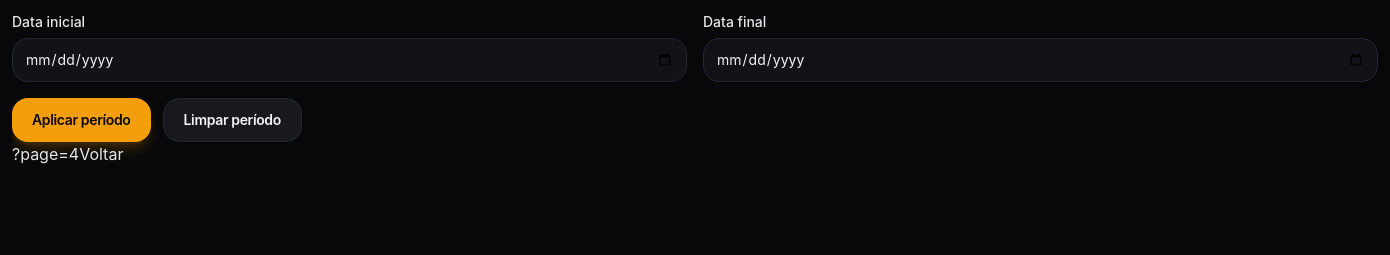
Test: OrdersPeriodFilter › shows an alert and does not navigate for a reversed range
The width and height of the screenshot is (1390, 255).
Step 1. Type "2026-07-16" into the date field labelled "Data inicial" → (350, 60), box 12,38 -> 687,82
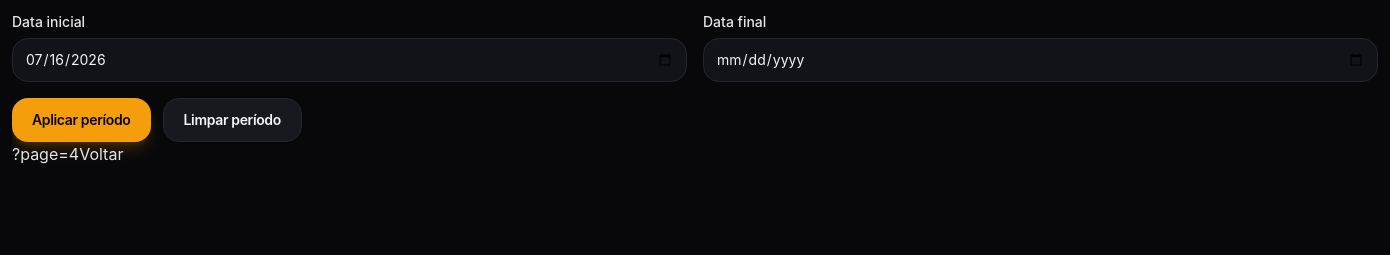
Step 2. Type "2026-07-15" into the date field labelled "Data final" → (1040, 60), box 703,38 -> 1378,82
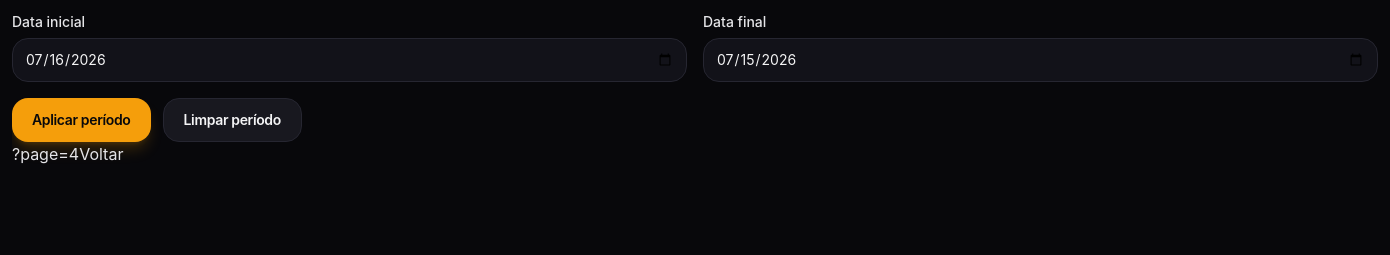
Step 3. Click the button "Aplicar período" → (81, 120), box 12,98 -> 150,142
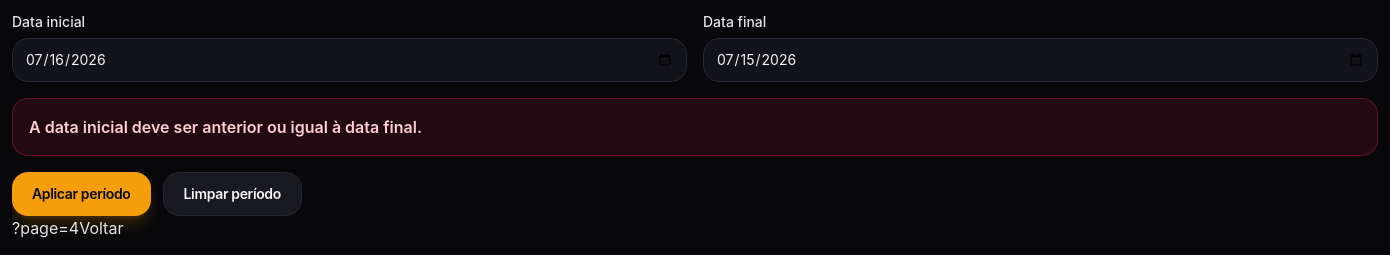
Check: the text named "URL atual" reads "?page=4", box 12,218 -> 79,238
Check: the message reads "A data inicial deve ser anterior ou igual à data final.", box 29,117 -> 422,137
